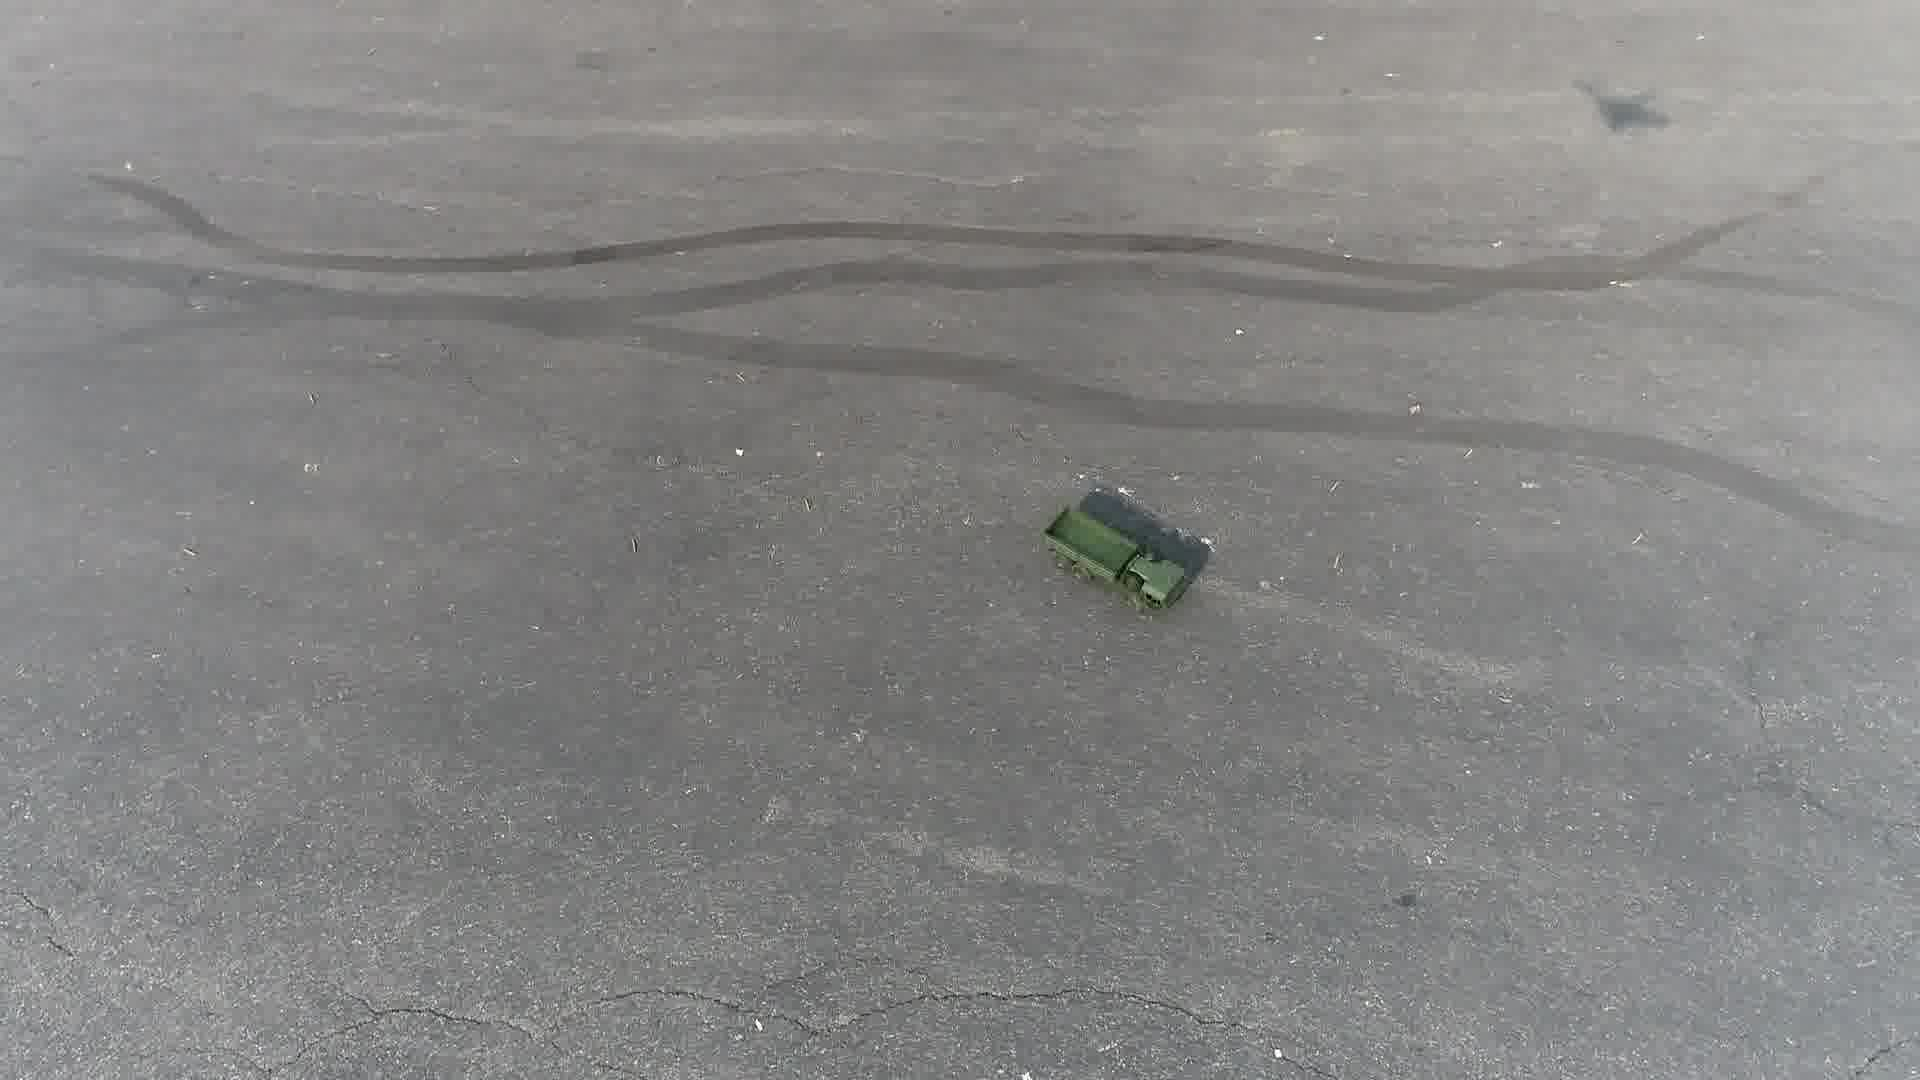transporter9: (1040, 498, 1201, 618)
